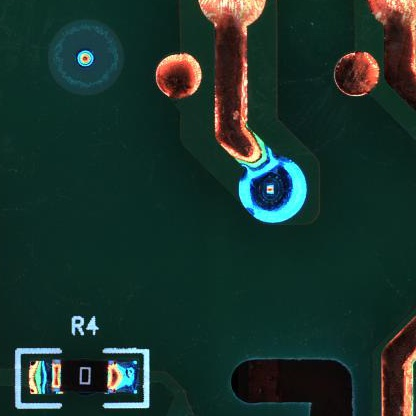spot: (239, 155, 309, 225)
